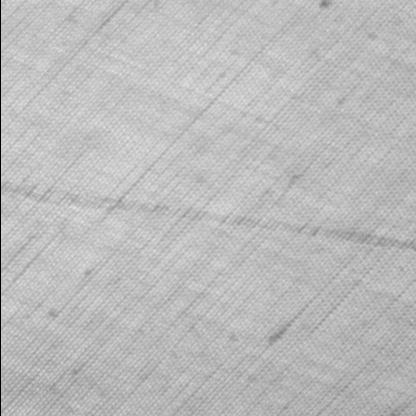oil spot: (1, 177, 415, 249)
